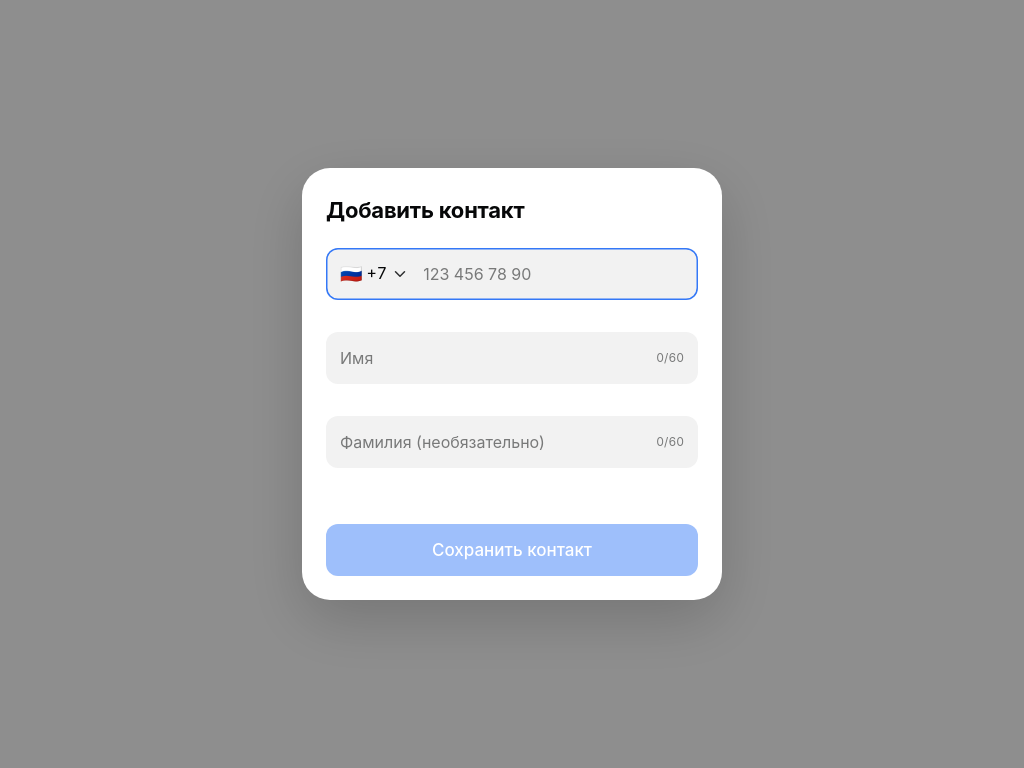
Scenario: AddContactDialog › показывает ошибку, если у номера нет Telegram
The width and height of the screenshot is (1024, 768).
Type "9123456789" into the field named "Номер телефона" at (554, 274), box [423,248,684,300]
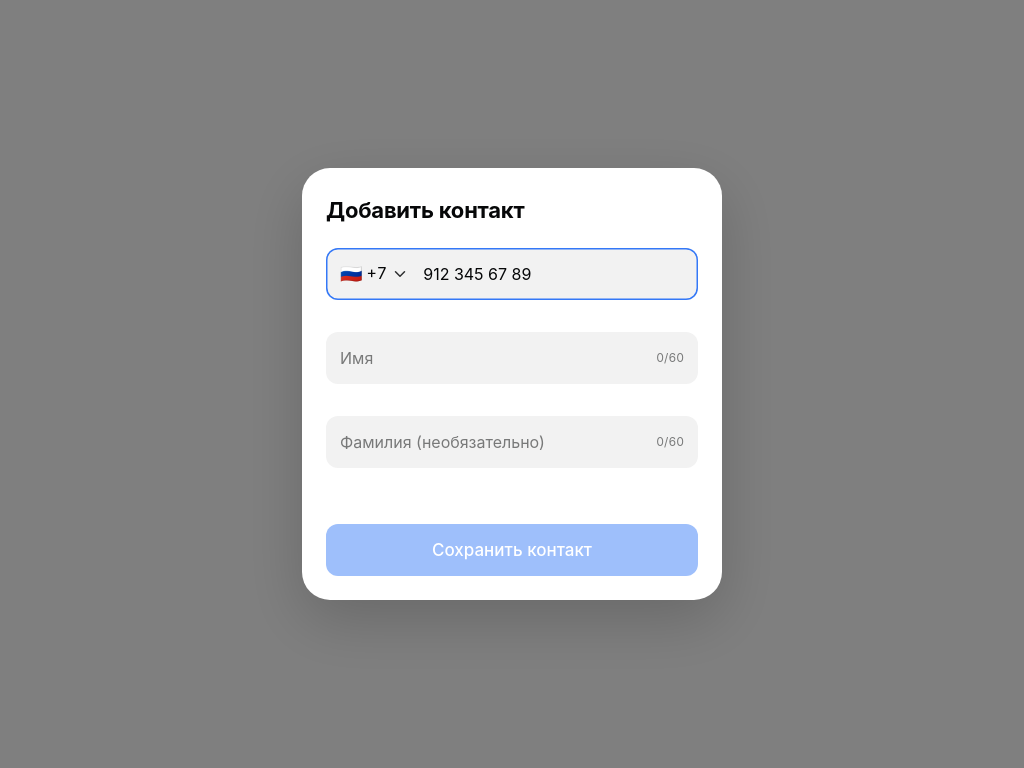
Type "Наталия" into the field labelled "Имя" at (494, 358), box [340,332,648,384]
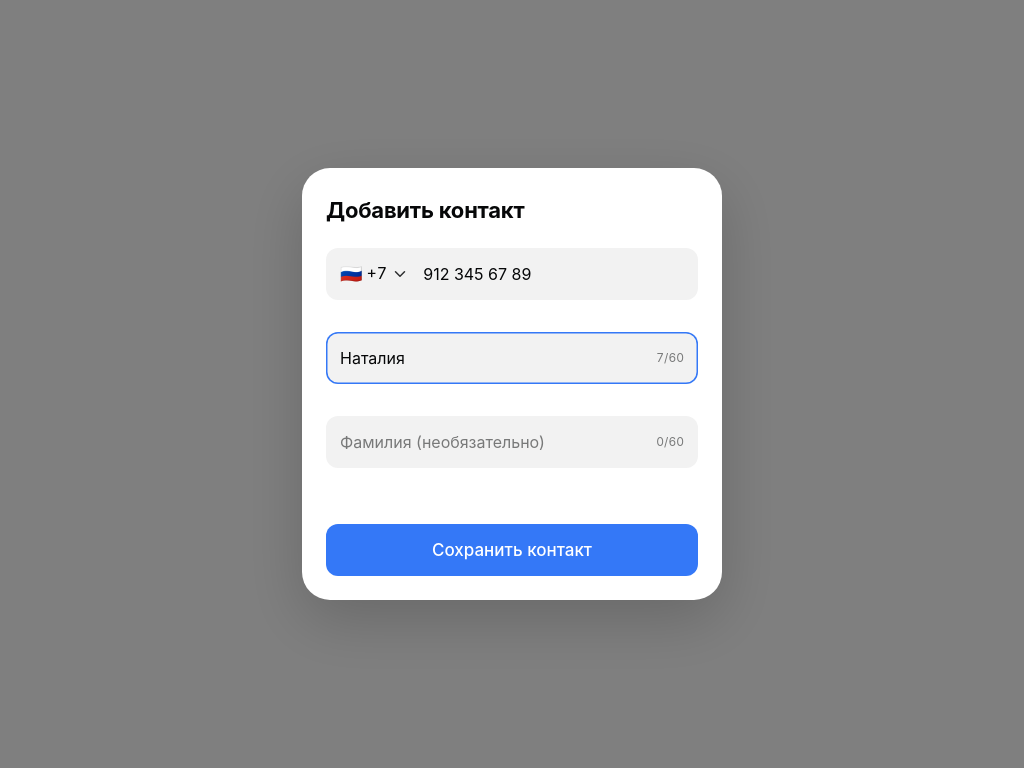
Click the button "Сохранить контакт" at (512, 550), box [326,524,698,576]
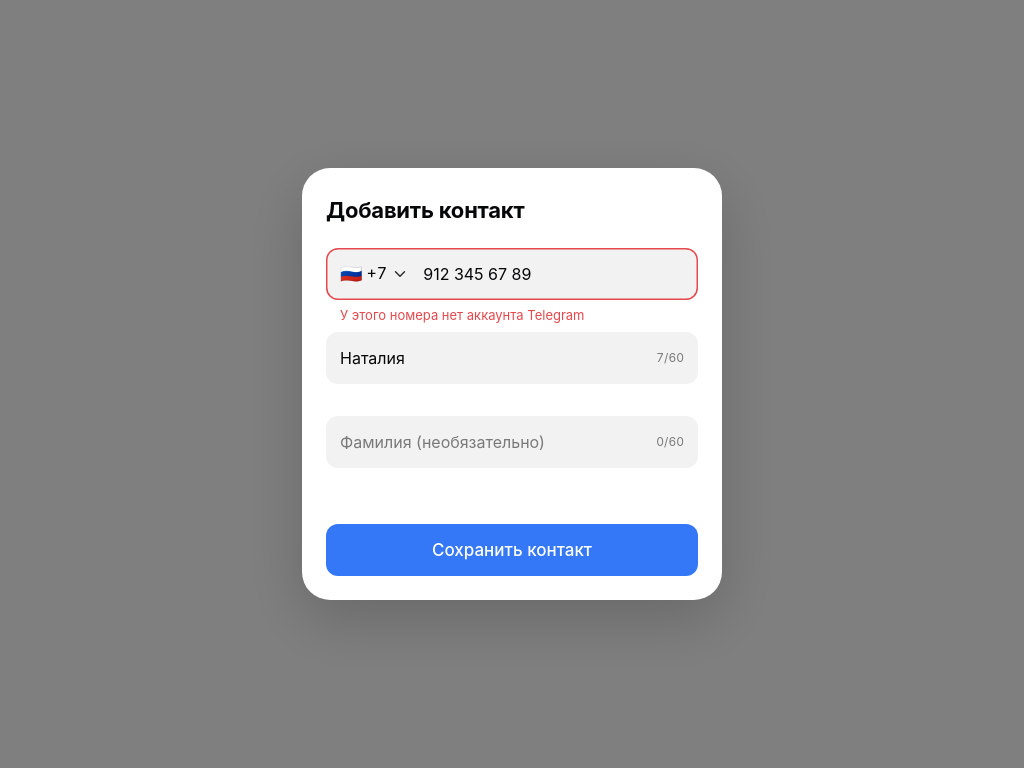
Now the text "У этого номера нет аккаунта Telegram" is shown, box [340,307,584,323]
